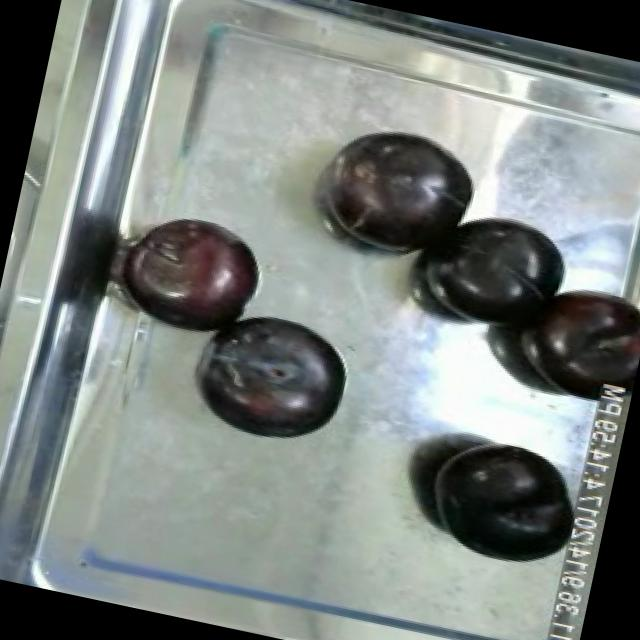Fruit: (311, 114, 494, 270), (412, 423, 594, 579), (189, 300, 361, 454), (420, 199, 583, 344), (120, 205, 274, 344), (516, 271, 640, 390)
